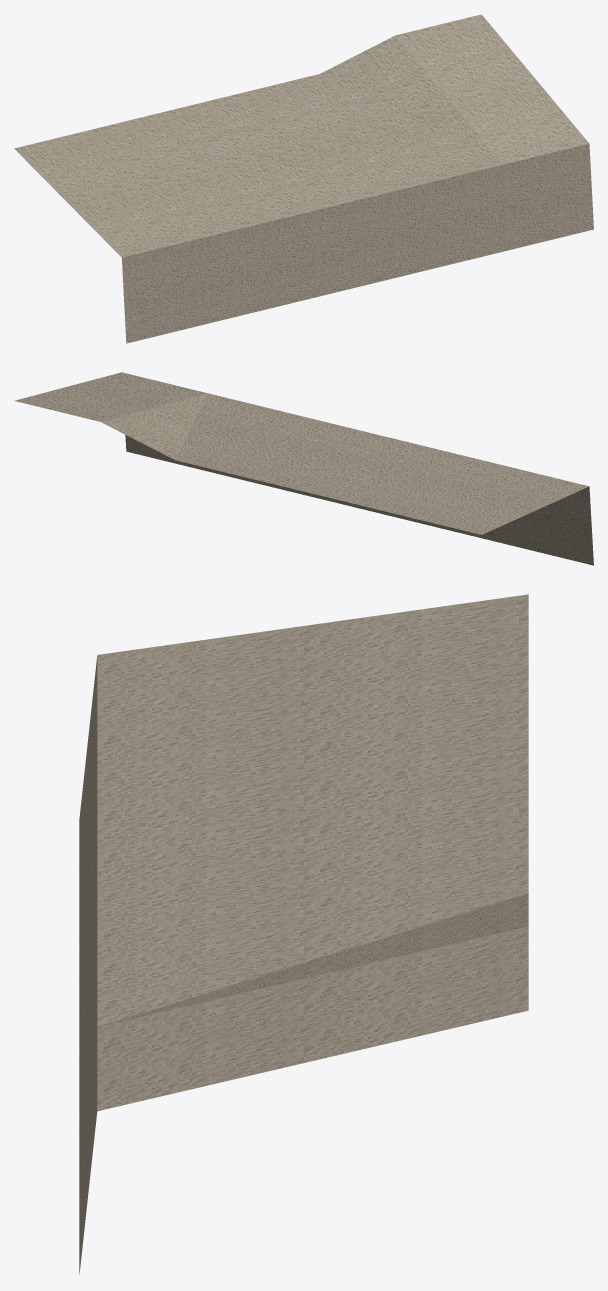
File: sbseabed91_las2.obj
3 views of the same model, one above another, from view 1: azimuth 30°, elevation 25°; view 2: azimuth 150°, elevation 25°; view 3: azimuth 270°, elevation 25° (orthographic). The views are drawn at different scales.
Parts seen in each view (by area): view 1: sbseabed91_las2; view 2: sbseabed91_las2; view 3: sbseabed91_las2.
Boxes of the visible parts, x1=… form: sbseabed91_las2: x1=14, y1=14, x2=593, y2=343; sbseabed91_las2: x1=14, y1=372, x2=593, y2=565; sbseabed91_las2: x1=79, y1=594, x2=528, y2=1274.
Bounding box in the file's own units: 300 × 81.52 × 125.
1 material, 1 textured.
